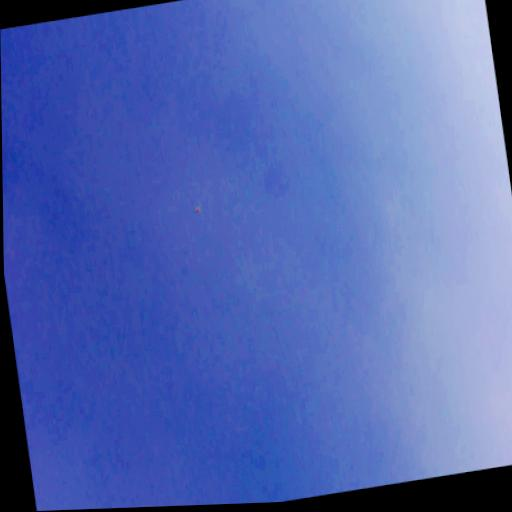drones: (191, 201, 204, 217)
